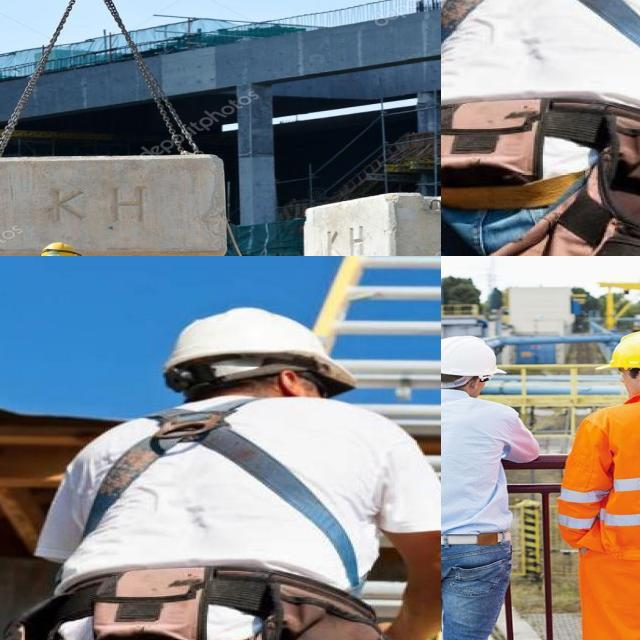Harness: (82, 401, 362, 592)
head_helmet: (441, 334, 508, 375), (604, 328, 640, 367), (35, 241, 76, 256)
person: (564, 323, 640, 640), (441, 336, 514, 640)
vest: (585, 402, 640, 543)
